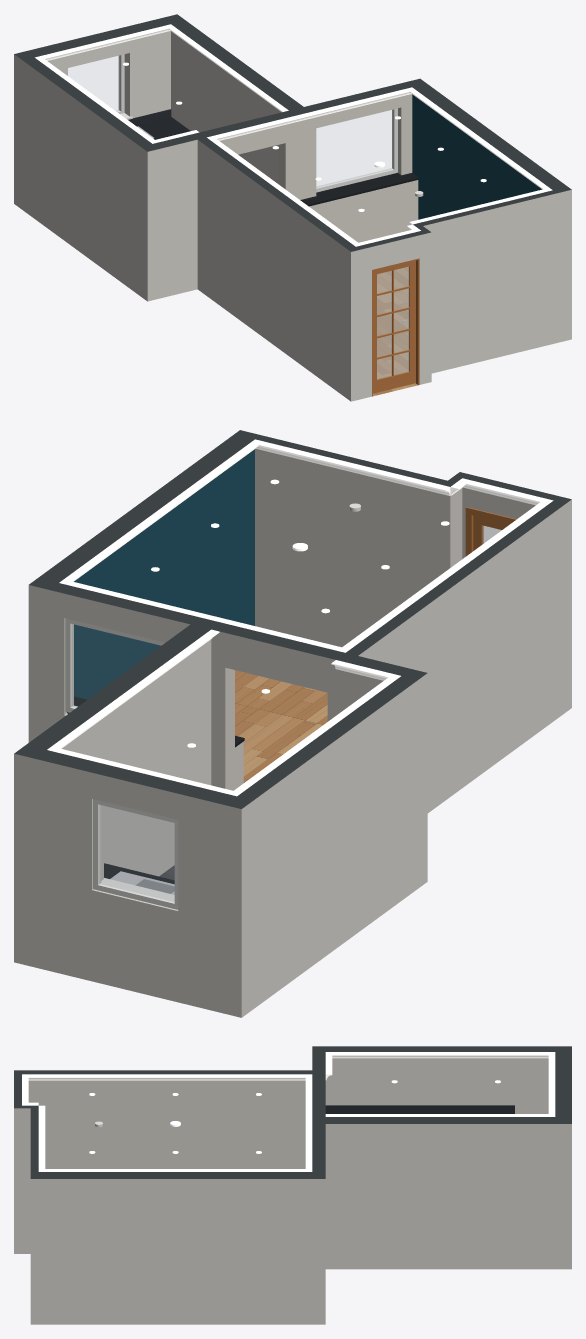
The model's file is lounge-empty.glb.
3 renders of one model, top to bottom at view 1: azimuth 30°, elevation 25°; view 2: azimuth 150°, elevation 25°; view 3: azimuth 270°, elevation 25°, orthographic. The views are drawn at different scales.
Parts seen in each view (by area): view 1: Wall west, Wall southE, Wall kWest, Wall east, Wall kSouth, Wall kEast, Wall north, Window (×2), Wall kNorth, Wall southW, Door, Window ledge (+3 smaller); view 2: Wall kWest, Wall kNorth, Wall west, Wall southE, Wall east, Wall kEast, Wall north, Window (×2), Floor, Wall kSouth, Wall southW, Wall step (+2 smaller); view 3: Wall east, Wall kEast, Wall west, Wall kWest, Wall kNorth, Wall north, Wall step, Kitchen units, Wall southE, Wall southW, Wall kSouth.
Part boxes in pixels (left/top/right/bottom): Wall west: left=197, top=137, right=360, bottom=401; Wall southE: left=409, top=189, right=571, bottom=373; Wall kWest: left=14, top=51, right=157, bottom=296; Wall east: left=406, top=78, right=571, bottom=342; Wall kSouth: left=140, top=130, right=205, bottom=301; Wall kEast: left=163, top=14, right=303, bottom=184; Wall north: left=200, top=80, right=425, bottom=199; Window (×2): left=68, top=54, right=397, bottom=192; Wall kNorth: left=14, top=14, right=185, bottom=208; Wall southW: left=347, top=229, right=431, bottom=401; Door: left=372, top=258, right=419, bottom=396; Window ledge: left=300, top=172, right=418, bottom=242; Wall kWest: left=225, top=674, right=418, bottom=1017; Wall kNorth: left=14, top=745, right=253, bottom=1015; Wall west: left=339, top=496, right=571, bottom=813; Wall southE: left=235, top=430, right=455, bottom=647; Wall east: left=34, top=430, right=262, bottom=718; Wall kEast: left=14, top=624, right=219, bottom=966; Wall north: left=28, top=578, right=348, bottom=790; Window (×2): left=65, top=618, right=178, bottom=909; Floor: left=235, top=670, right=327, bottom=782; Wall kSouth: left=331, top=653, right=427, bottom=888; Wall southW: left=454, top=473, right=571, bottom=711; Wall step: left=442, top=472, right=469, bottom=572; Wall east: left=30, top=1169, right=325, bottom=1324; Wall kEast: left=325, top=1114, right=571, bottom=1269; Wall west: left=20, top=1070, right=312, bottom=1168; Wall kWest: left=325, top=1046, right=571, bottom=1113; Wall kNorth: left=548, top=1046, right=571, bottom=1269; Wall north: left=305, top=1074, right=325, bottom=1324; Wall step: left=14, top=1102, right=38, bottom=1253; Kitchen units: left=325, top=1105, right=514, bottom=1113; Wall southE: left=30, top=1105, right=45, bottom=1317; Wall southW: left=14, top=1070, right=28, bottom=1253; Wall kSouth: left=312, top=1046, right=332, bottom=1080.
Bounding box in the file's own units: 4.69 × 2.4 × 8.34.
Materials: 26 (2 with a texture image).
